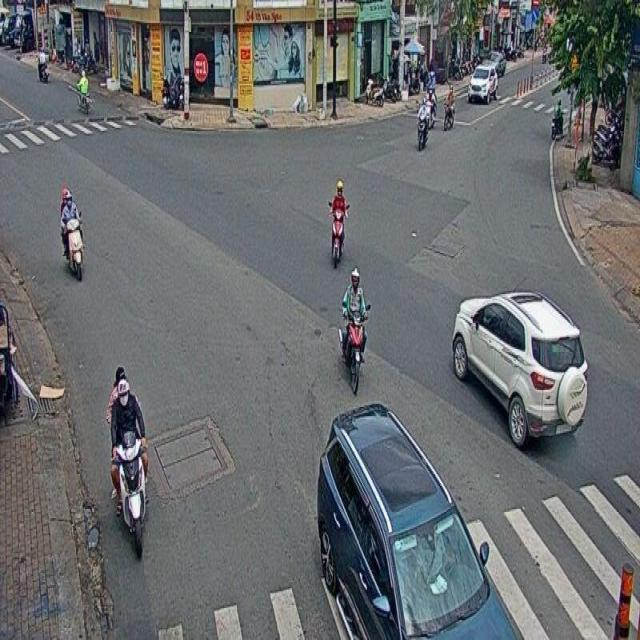car: (310, 401, 525, 638), (452, 285, 592, 456)
motorcycle: (106, 366, 152, 562), (340, 264, 370, 399), (57, 183, 84, 282), (327, 176, 347, 270), (290, 401, 290, 404)
